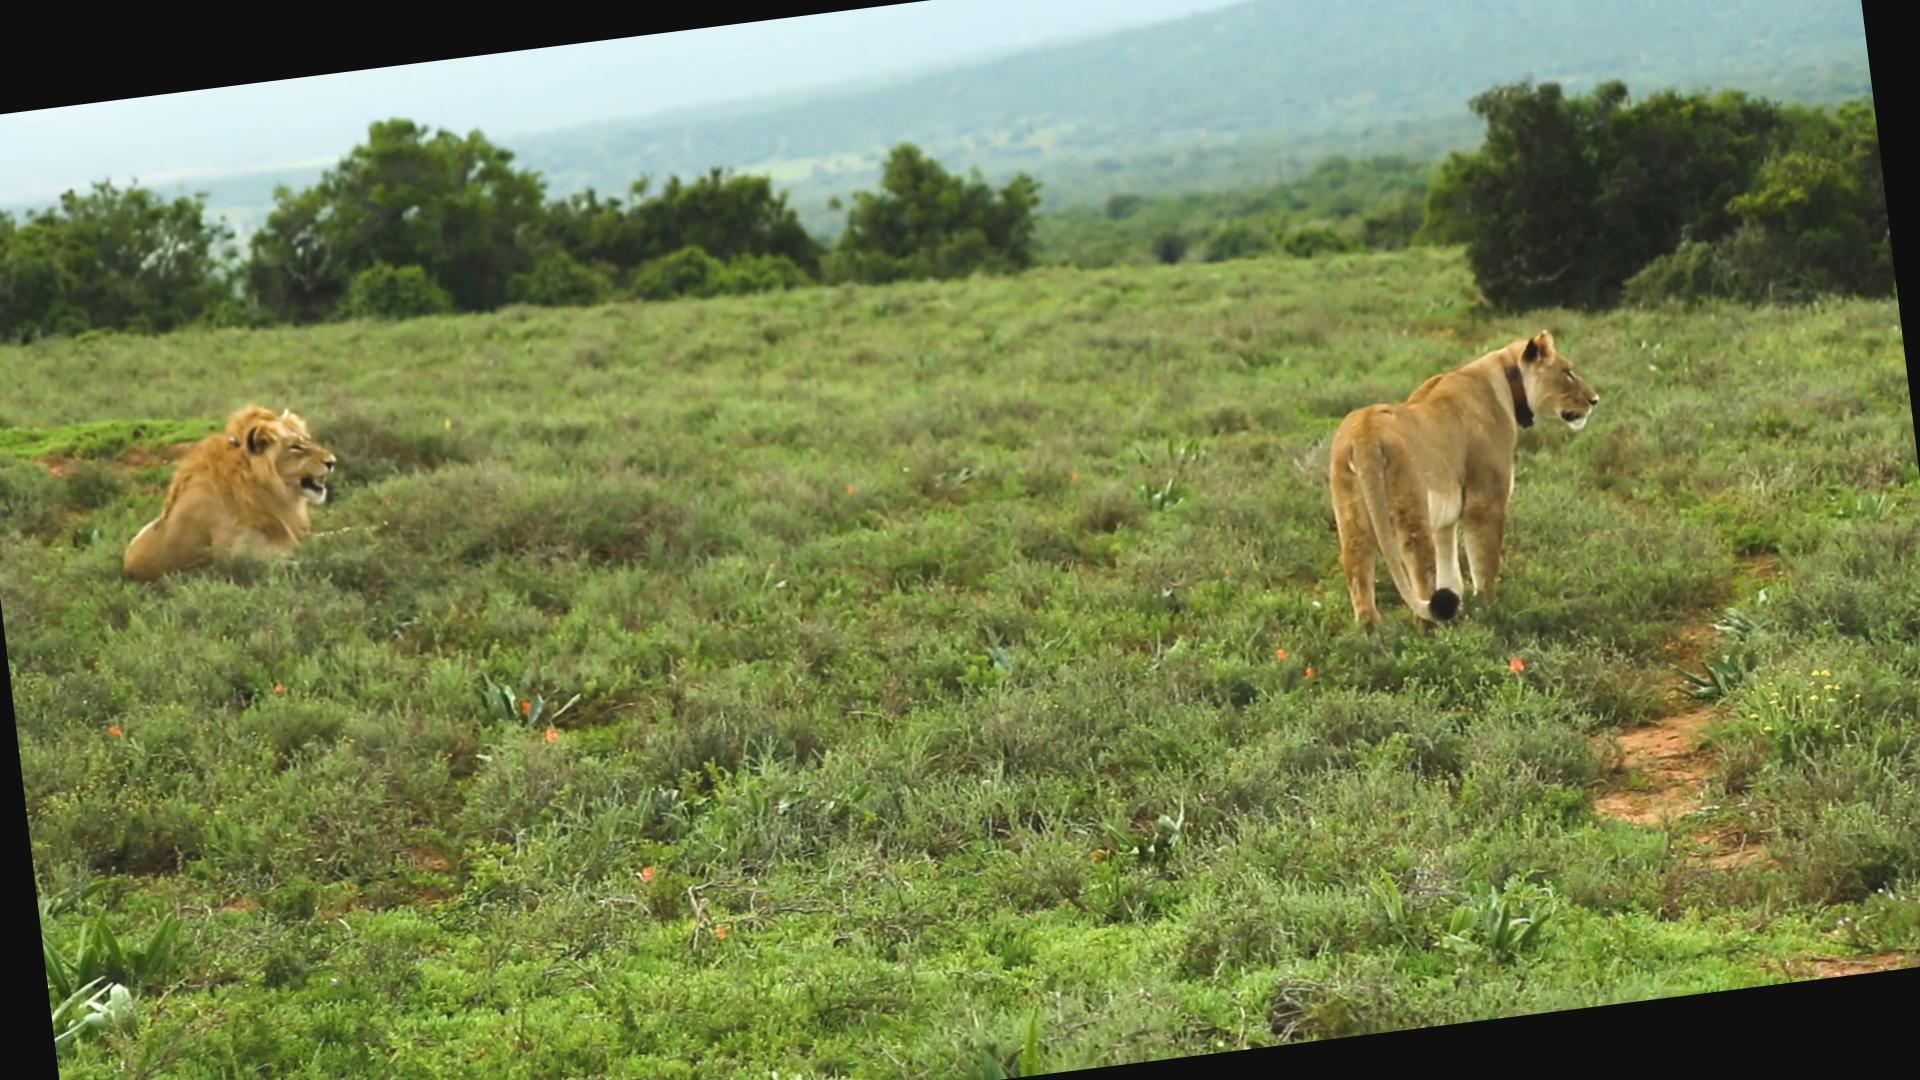lions: (1274, 249, 1825, 724), (86, 340, 373, 638)
